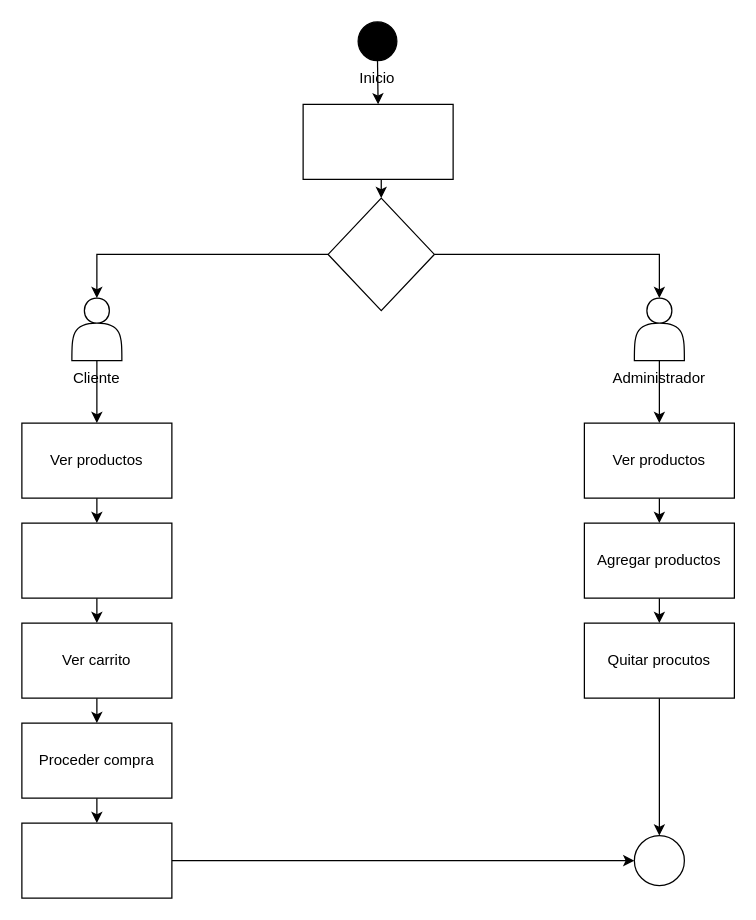
This 756x920 diagram has some shape labels left out. Each missing label, with the box of its shape:
Agregar productos al carrito: (21, 522, 172, 598)
Cliente o Administrador: (327, 197, 434, 311)
Confirmar compra: (21, 822, 172, 898)
Fin: (633, 834, 684, 886)
Inicio de sesion (login): (302, 103, 453, 179)
